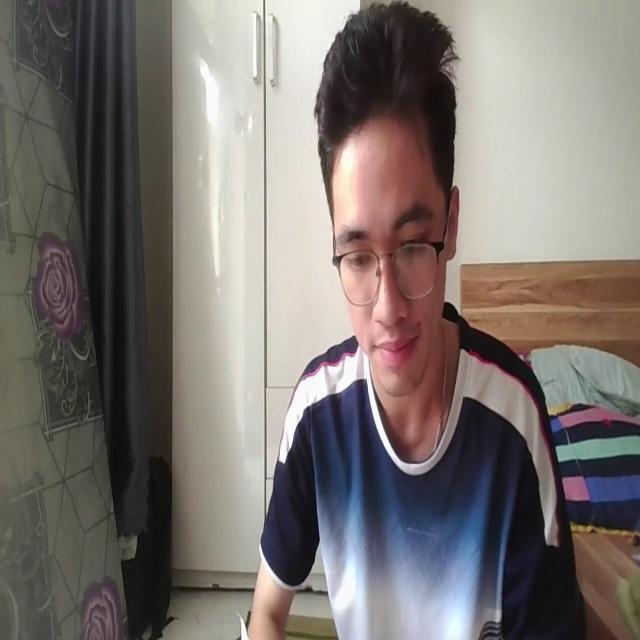student: (251, 0, 582, 640)
